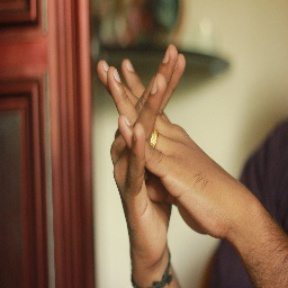W: (91, 38, 213, 219)
